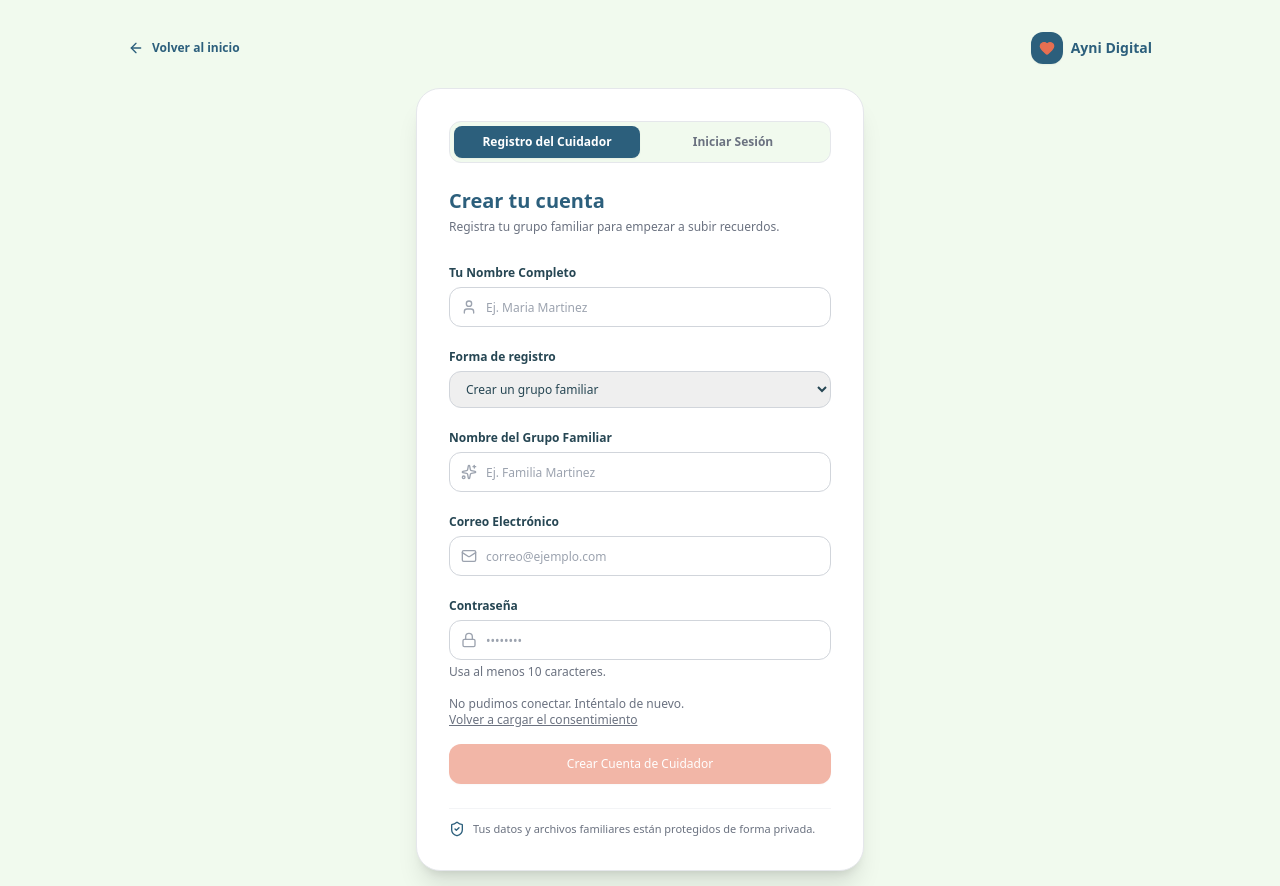
Test case: AuthPage families contract › blocks registration when consent cannot load and supports retry
The width and height of the screenshot is (1280, 886).
Expected: the message shows "No pudimos conectar", [449,695,684,712]
Expected: the button "Crear Cuenta de Cuidador" is disabled, [449,744,831,784]
Click the button "Volver a cargar el consentimiento" at [543, 720], box [449,712,638,728]
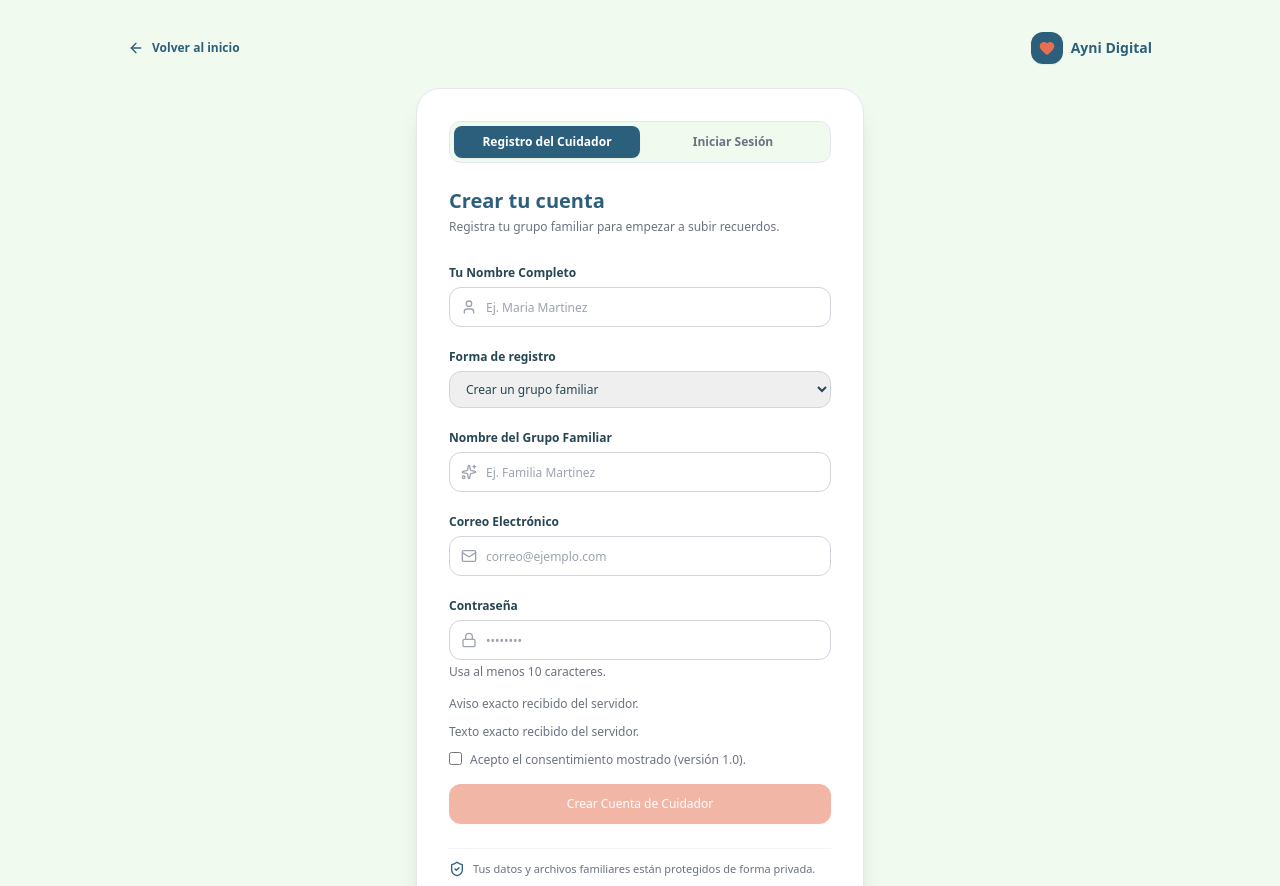
Now the checkbox is not checked, box [449,752,462,765]
Now the text "Texto exacto recibido del servidor." is shown, box [449,723,639,740]
